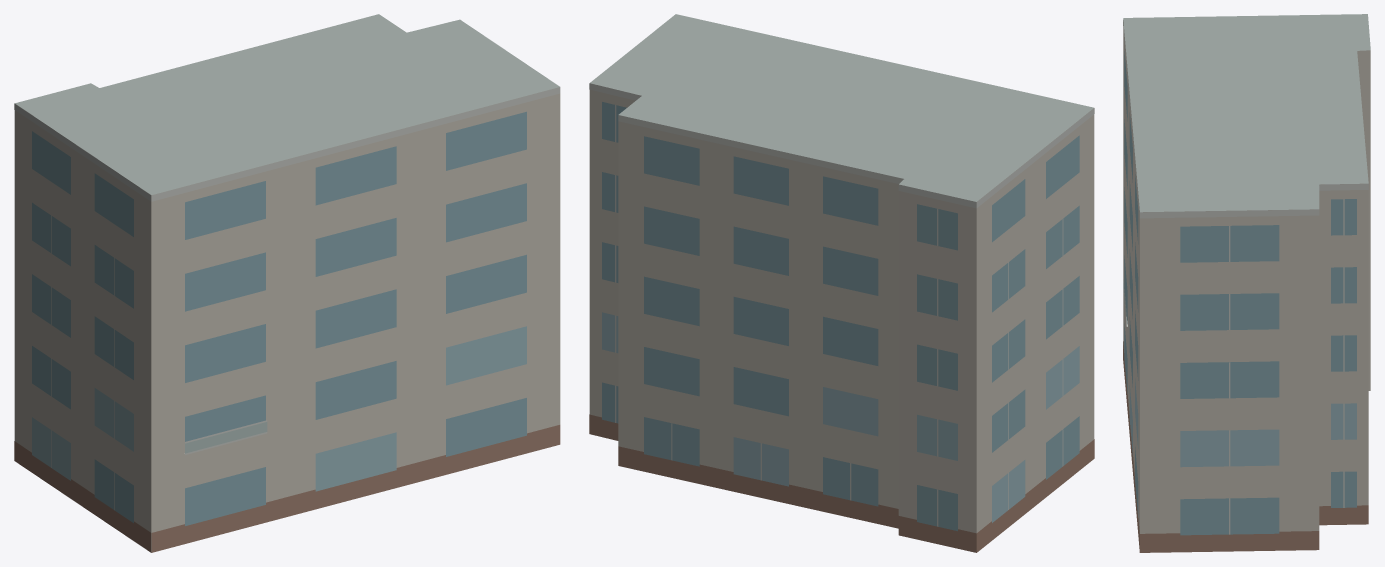
File: survey-upis-32702360.glb
3 views of the same model, side by side, from view 1: azimuth 30°, elevation 25°; view 2: azimuth 150°, elevation 25°; view 3: azimuth 270°, elevation 25° (orthographic). The views are drawn at different scales.
Visible parts, largest first — view 1: survey-upis-32702360.tmp; view 2: survey-upis-32702360.tmp; view 3: survey-upis-32702360.tmp.
Part boxes in pixels (x1,y1,x2,y2): survey-upis-32702360.tmp: (14, 14, 560, 552); survey-upis-32702360.tmp: (589, 14, 1094, 552); survey-upis-32702360.tmp: (1123, 14, 1370, 552).
Size of the model in its own units: 16.72 by 13.4 by 8.84.
